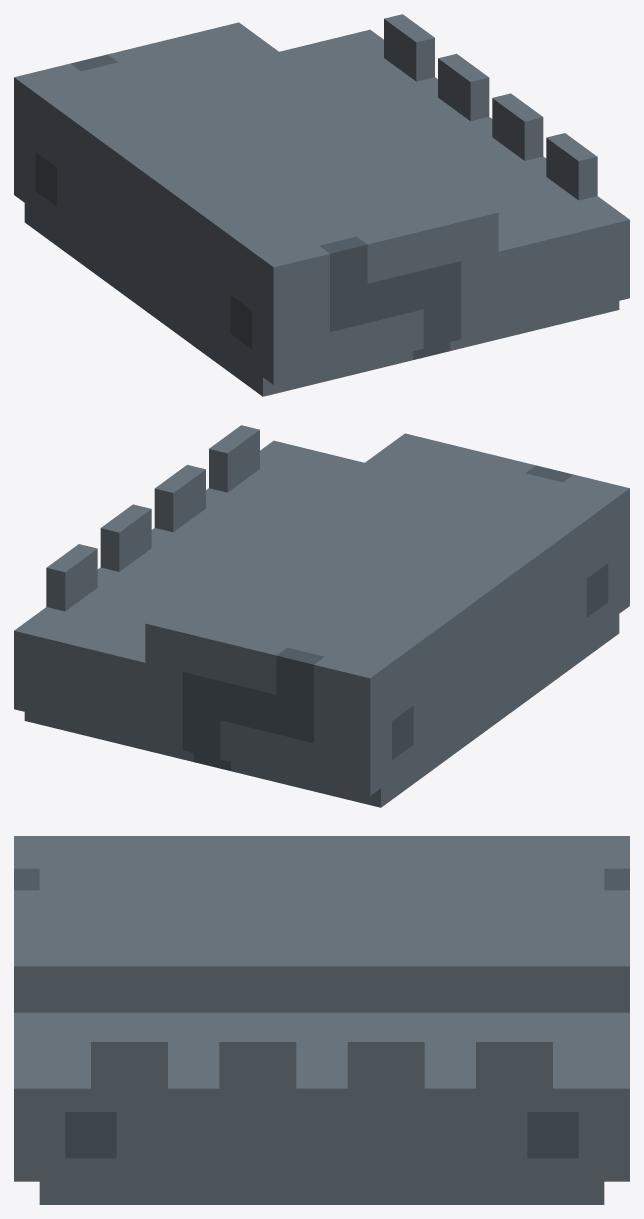
Rendered from av_beard_grey.glb.
The picture shows the model from 3 angles, top to bottom: view 1: azimuth 30°, elevation 25°; view 2: azimuth 150°, elevation 25°; view 3: azimuth 270°, elevation 25°; orthographic projection. The views are drawn at different scales.
Parts seen in each view (by area): view 1: model; view 2: model; view 3: model.
Boxes of the visible parts, box(x1,y1,x2,y2) form: model: box(14, 14, 629, 396); model: box(14, 425, 629, 807); model: box(14, 836, 629, 1204).
Size of the model in its own units: 0.19 by 0.07 by 0.24.
Materials: 1 (1 with a texture image).
